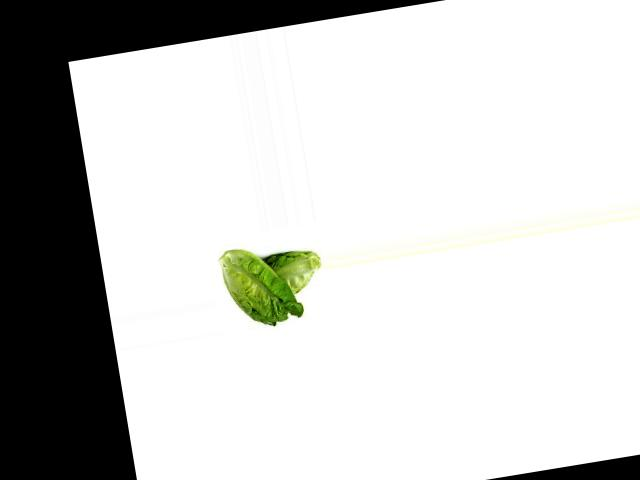lettuce: (261, 242, 327, 301)
